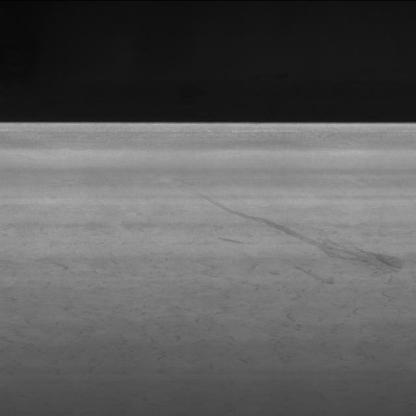silk_spot: (13, 227, 262, 366)
water_spot: (195, 190, 416, 290)
